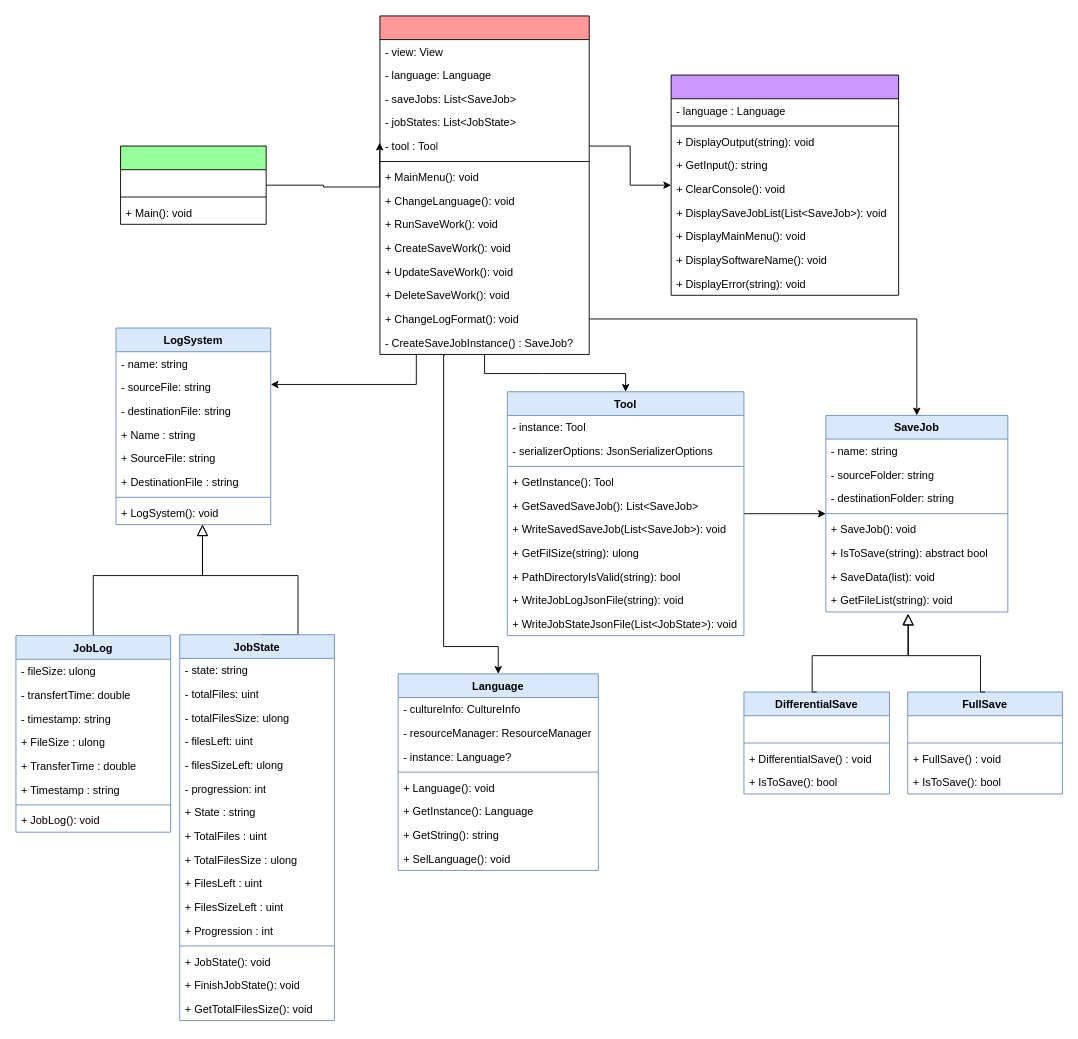
This 1078x1039 diagram has some shape labels left out. The shapes that lost their labels are listed below. From the top down, each one's box as (x1, y1, x2, y2) in pixels, then its label:
(120, 145, 266, 224): Program
(379, 15, 589, 354): Controller
(670, 74, 899, 295): View
